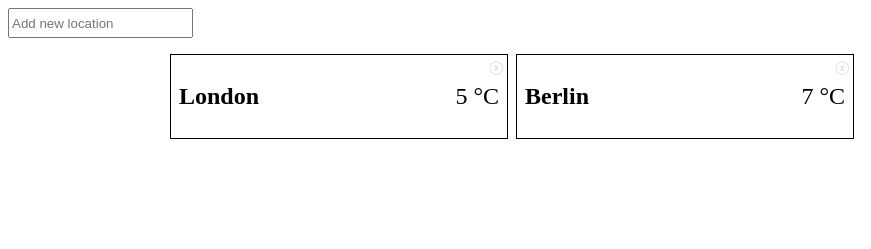
Test: location-weather-page › should be possible to add new location to the list
Step 1. Type "Khabarovsk" into the field → (100, 23), box [8, 8, 193, 38]
Then press Enter
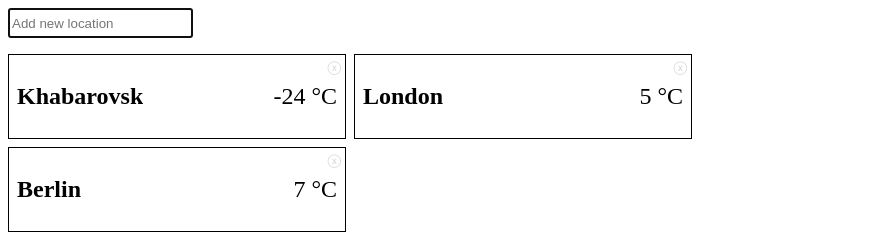
expect the heading "khabarovsk" is shown: met, box [17, 83, 143, 110]
expect the text with test id "khabarovsk-temperature" reads "-24": met, box [273, 83, 305, 109]
